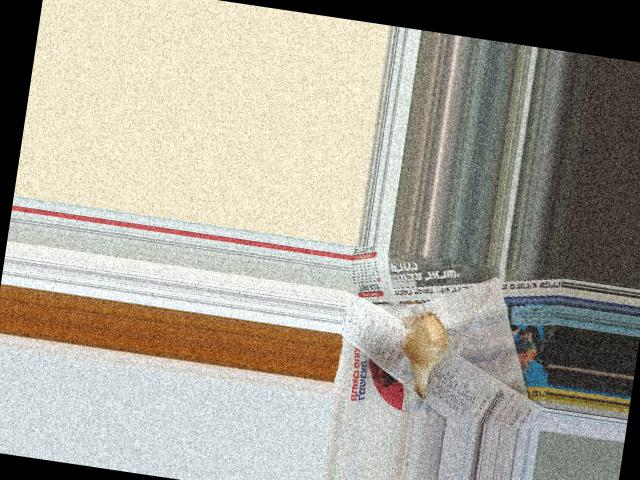onion: (401, 312, 453, 379)
